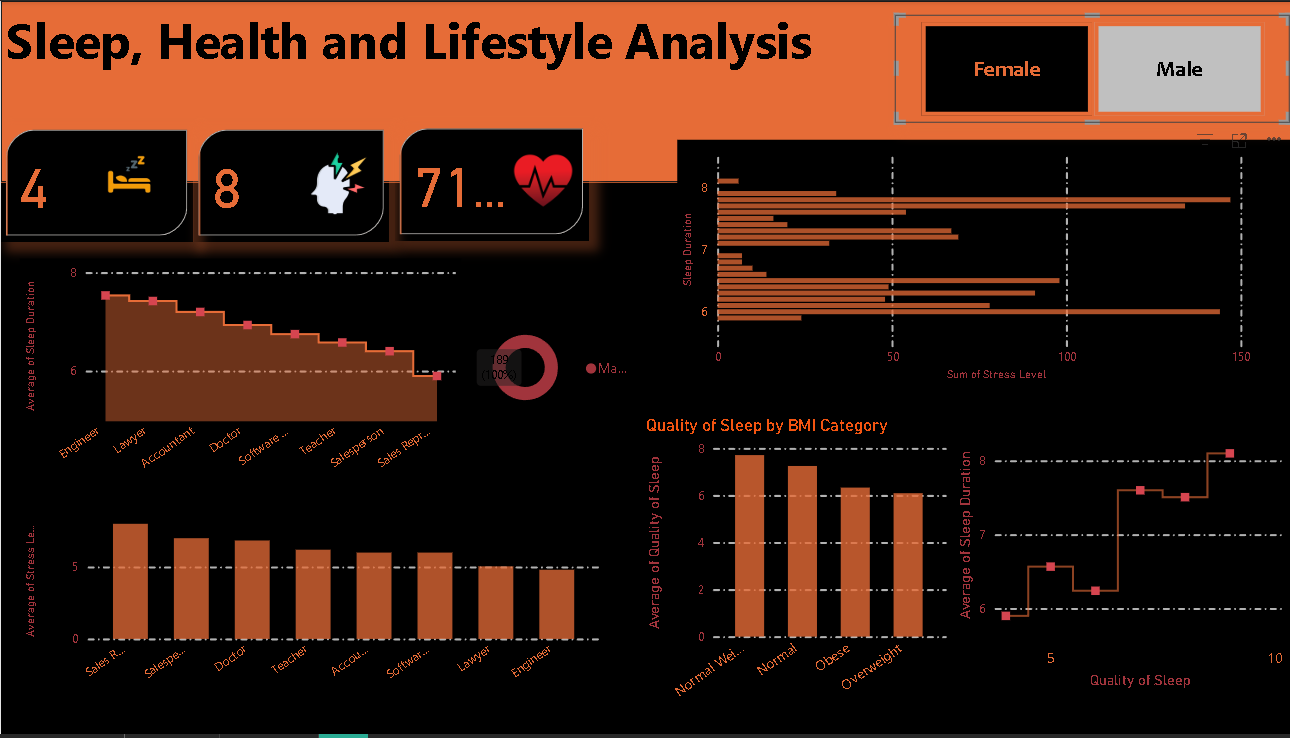

What the dashboard file says about the page in this screenshot:
{"tool":"powerbi","page":{"name":"Page 1","canvas":[1280,720],"ordinal":0},"visuals":[{"type":"textbox","box":[0,0,1280,178.3],"z":0},{"type":"cardVisual","fields":{"Data":["Min(Sleep_health_and_lifestyle_dataset.Quality of Sleep)"]},"box":[0,121.7,188.8,115],"z":1000},{"type":"cardVisual","fields":{"Data":["Max(Sleep_health_and_lifestyle_dataset.Stress Level)"]},"box":[188.8,121.7,192.2,115],"z":2000},{"type":"cardVisual","fields":{"Data":["Avg(Sleep_health_and_lifestyle_dataset.Heart Rate)"]},"box":[386.1,120,190.5,115],"z":3000},{"type":"slicer","fields":{"Values":["Sleep_health_and_lifestyle_dataset.Gender"]},"box":[877.5,13.8,387.5,106.2],"z":4000},{"type":"areaChart","fields":{"Category":["Sleep_health_and_lifestyle_dataset.Occupation"],"Y":["Avg(Sleep_health_and_lifestyle_dataset.Sleep Duration)"]},"box":[18.3,253.3,433.3,220],"z":5000},{"type":"columnChart","fields":{"Category":["Sleep_health_and_lifestyle_dataset.Occupation"],"Y":["Avg(Sleep_health_and_lifestyle_dataset.Stress Level)"]},"box":[18.3,500,575,180],"z":6000},{"type":"lineClusteredColumnComboChart","title":"Quality of Sleep by BMI Category","fields":{"Category":["Sleep_health_and_lifestyle_dataset.BMI Category"],"Y":["Avg(Sleep_health_and_lifestyle_dataset.Quality of Sleep)"]},"box":[628.3,406.7,305,290],"z":7000},{"type":"donutChart","fields":{"Category":["Sleep_health_and_lifestyle_dataset.Gender"],"Y":["CountNonNull(Sleep_health_and_lifestyle_dataset.Sleep Disorder)"]},"box":[451.2,270,177.5,180],"z":10000},{"type":"lineChart","fields":{"Y":["Avg(Sleep_health_and_lifestyle_dataset.Sleep Duration)"],"Category":["Sleep_health_and_lifestyle_dataset.Quality of Sleep"]},"box":[933.3,401.7,331.7,278.3],"z":11000},{"type":"clusteredBarChart","fields":{"Category":["Sleep_health_and_lifestyle_dataset.Sleep Duration"],"Y":["Sum(Sleep_health_and_lifestyle_dataset.Stress Level)"]},"box":[663.3,136.7,601.7,241.7],"z":12000}]}

Visuals, with their boxes in screenshot pixels (x1, y1, x2, y2), scaled from the page's 1280x720 canvas onto the 1290x738 screenshot:
textbox: <bbox>0, 0, 1289, 183</bbox>
cardVisual - Min(Sleep_health_and_lifestyle_dataset.Quality of Sleep): <bbox>0, 125, 190, 243</bbox>
cardVisual - Max(Sleep_health_and_lifestyle_dataset.Stress Level): <bbox>190, 125, 384, 243</bbox>
cardVisual - Avg(Sleep_health_and_lifestyle_dataset.Heart Rate): <bbox>389, 123, 581, 241</bbox>
slicer - Sleep_health_and_lifestyle_dataset.Gender: <bbox>884, 14, 1275, 123</bbox>
areaChart - Sleep_health_and_lifestyle_dataset.Occupation x Avg(Sleep_health_and_lifestyle_dataset.Sleep Duration): <bbox>18, 260, 455, 485</bbox>
columnChart - Sleep_health_and_lifestyle_dataset.Occupation x Avg(Sleep_health_and_lifestyle_dataset.Stress Level): <bbox>18, 512, 598, 697</bbox>
"Quality of Sleep by BMI Category" lineClusteredColumnComboChart: <bbox>633, 417, 941, 714</bbox>
donutChart - Sleep_health_and_lifestyle_dataset.Gender x CountNonNull(Sleep_health_and_lifestyle_dataset.Sleep Disorder): <bbox>455, 277, 634, 461</bbox>
lineChart - Avg(Sleep_health_and_lifestyle_dataset.Sleep Duration) x Sleep_health_and_lifestyle_dataset.Quality of Sleep: <bbox>941, 412, 1275, 697</bbox>
clusteredBarChart - Sleep_health_and_lifestyle_dataset.Sleep Duration x Sum(Sleep_health_and_lifestyle_dataset.Stress Level): <bbox>668, 140, 1275, 388</bbox>
